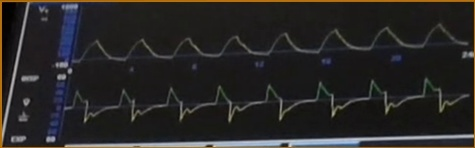Premature_cycling Flow: (69, 73, 468, 131)
Premature_cycling Volume: (77, 16, 469, 65)
